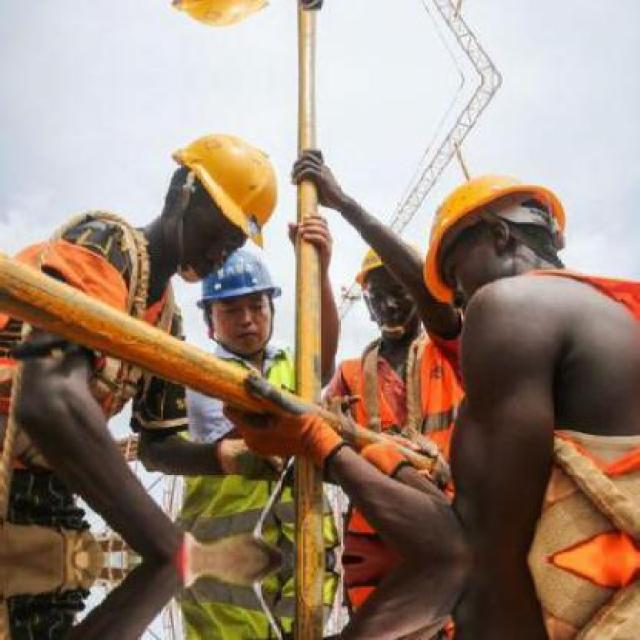helmet: (418, 159, 571, 308), (165, 108, 283, 253), (177, 247, 288, 319), (348, 230, 423, 290)
